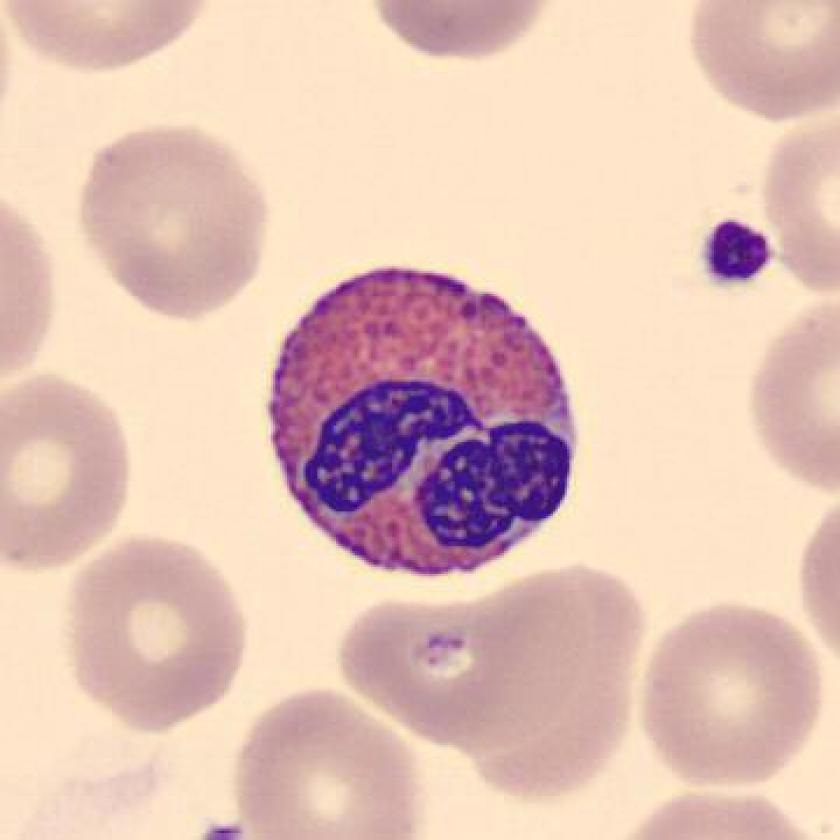eosinophil: (251, 251, 598, 593)
